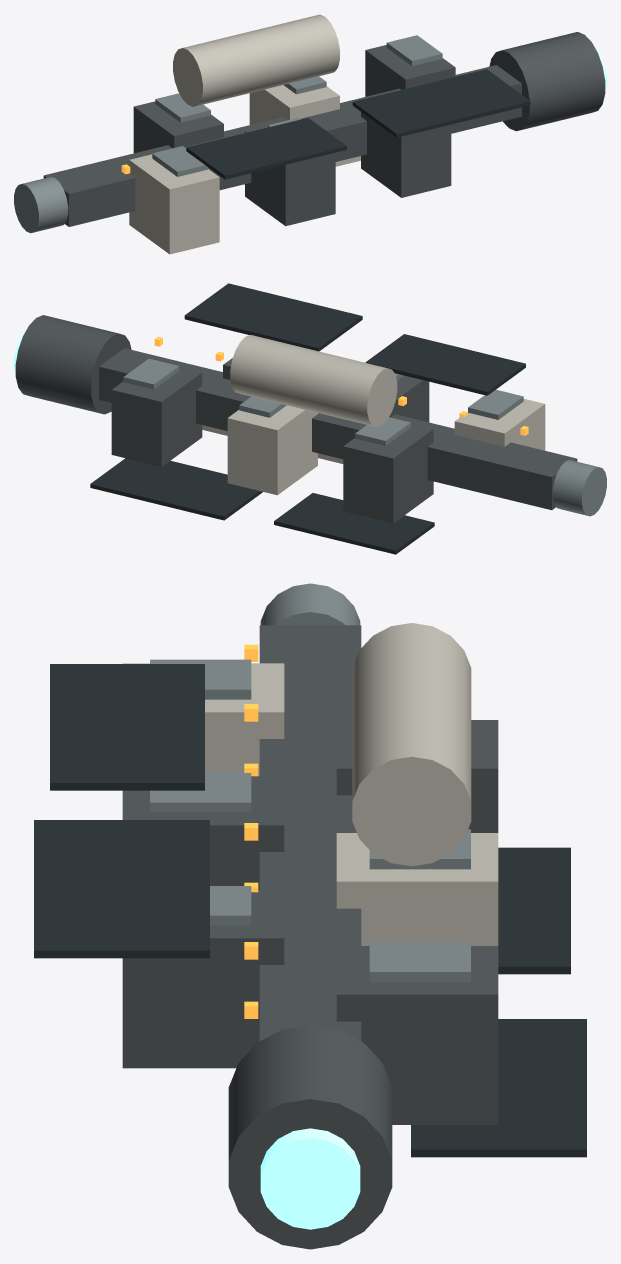
File: wayfarer-tern.glb
3 views of the same model, one above another, from view 1: azimuth 30°, elevation 25°; view 2: azimuth 150°, elevation 25°; view 3: azimuth 270°, elevation 25° (orthographic). The views are drawn at different scales.
Parts seen in each view (by area): view 1: offset-habitation-module, cargo-spine, metric-drive-housing, cargo-module-1, radiator-port-forward, radiator-port-aft, cargo-module-5, cargo-module-3, cargo-module-2, cargo-module-6, cargo-module-4, forward-docking-collar (+4 smaller); view 2: cargo-spine, offset-habitation-module, metric-drive-housing, cargo-module-6, cargo-module-2, cargo-module-4, radiator-port-forward, radiator-starboard-forward, radiator-port-aft, radiator-starboard-aft, cargo-module-1, forward-docking-collar (+5 smaller); view 3: cargo-spine, offset-habitation-module, radiator-port-forward, metric-drive-housing, cargo-module-6, radiator-port-aft, cargo-module-5, radiator-starboard-forward, cargo-module-4, radiator-starboard-aft, metric-drive-emitter, cargo-module-3 (+8 smaller).
Boxes of the visible parts, <box> form: offset-habitation-module: <box>173,14,339,106</box>; cargo-spine: <box>43,65,521,226</box>; metric-drive-housing: <box>489,32,605,131</box>; cargo-module-1: <box>129,154,219,254</box>; radiator-port-forward: <box>352,69,530,137</box>; radiator-port-aft: <box>186,118,346,179</box>; cargo-module-5: <box>361,112,451,197</box>; cargo-module-3: <box>245,126,335,226</box>; cargo-module-2: <box>133,101,223,153</box>; cargo-module-6: <box>365,45,455,96</box>; cargo-module-4: <box>249,85,339,124</box>; forward-docking-collar: <box>14,176,68,233</box>; cargo-spine: <box>99,348,577,510</box>; offset-habitation-module: <box>230,335,397,427</box>; metric-drive-housing: <box>15,315,131,414</box>; cargo-module-6: <box>111,367,202,466</box>; cargo-module-2: <box>343,423,433,523</box>; cargo-module-4: <box>227,405,317,495</box>; radiator-port-forward: <box>184,283,362,351</box>; radiator-starboard-forward: <box>90,458,262,520</box>; radiator-port-aft: <box>365,334,525,395</box>; radiator-starboard-aft: <box>274,493,434,554</box>; cargo-module-1: <box>454,399,545,450</box>; forward-docking-collar: <box>552,460,606,516</box>; cargo-spine: <box>259,625,361,1040</box>; offset-habitation-module: <box>352,623,471,866</box>; radiator-port-forward: <box>34,820,209,958</box>; metric-drive-housing: <box>228,1025,392,1249</box>; cargo-module-6: <box>336,946,498,1124</box>; radiator-port-aft: <box>50,664,204,790</box>; cargo-module-5: <box>122,889,284,1068</box>; radiator-starboard-forward: <box>411,1019,586,1157</box>; cargo-module-4: <box>336,833,498,945</box>; radiator-starboard-aft: <box>498,847,570,974</box>; metric-drive-emitter: <box>260,1128,360,1229</box>; cargo-module-3: <box>122,776,284,889</box>.
Bounding box in the file's own units: 9.32 × 2.29 × 3.93.
